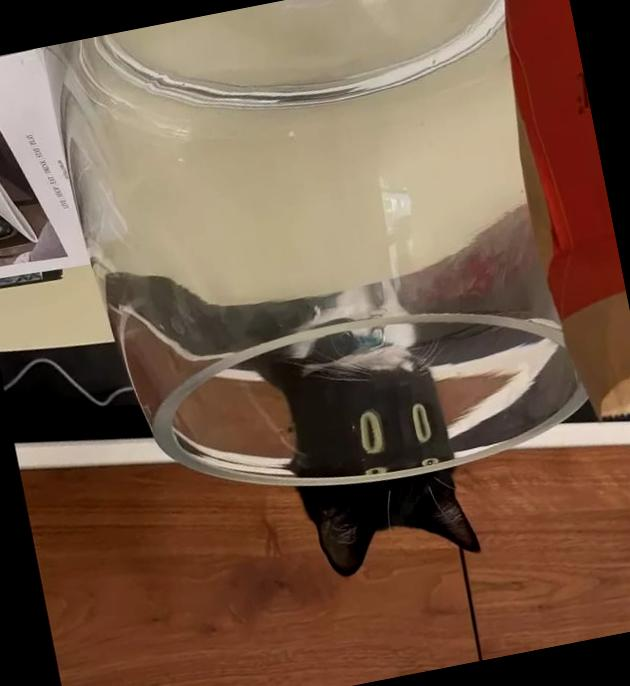macka: (102, 211, 480, 612)
